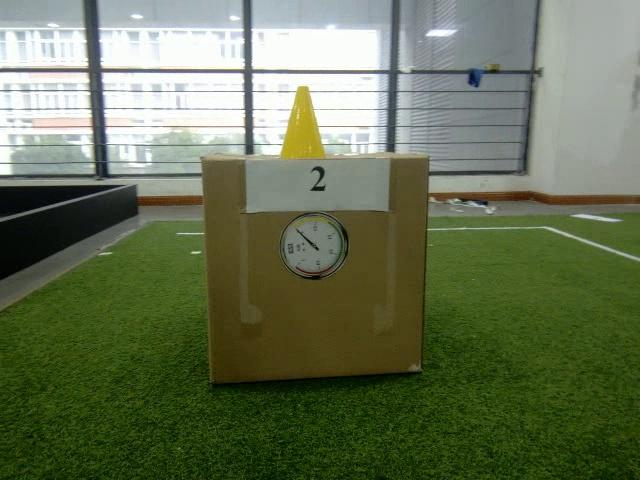2: (308, 165, 327, 192)
Dashboard: (280, 214, 348, 280)
ssi: (288, 244, 294, 253)
yellow_barrel: (278, 87, 326, 158)
